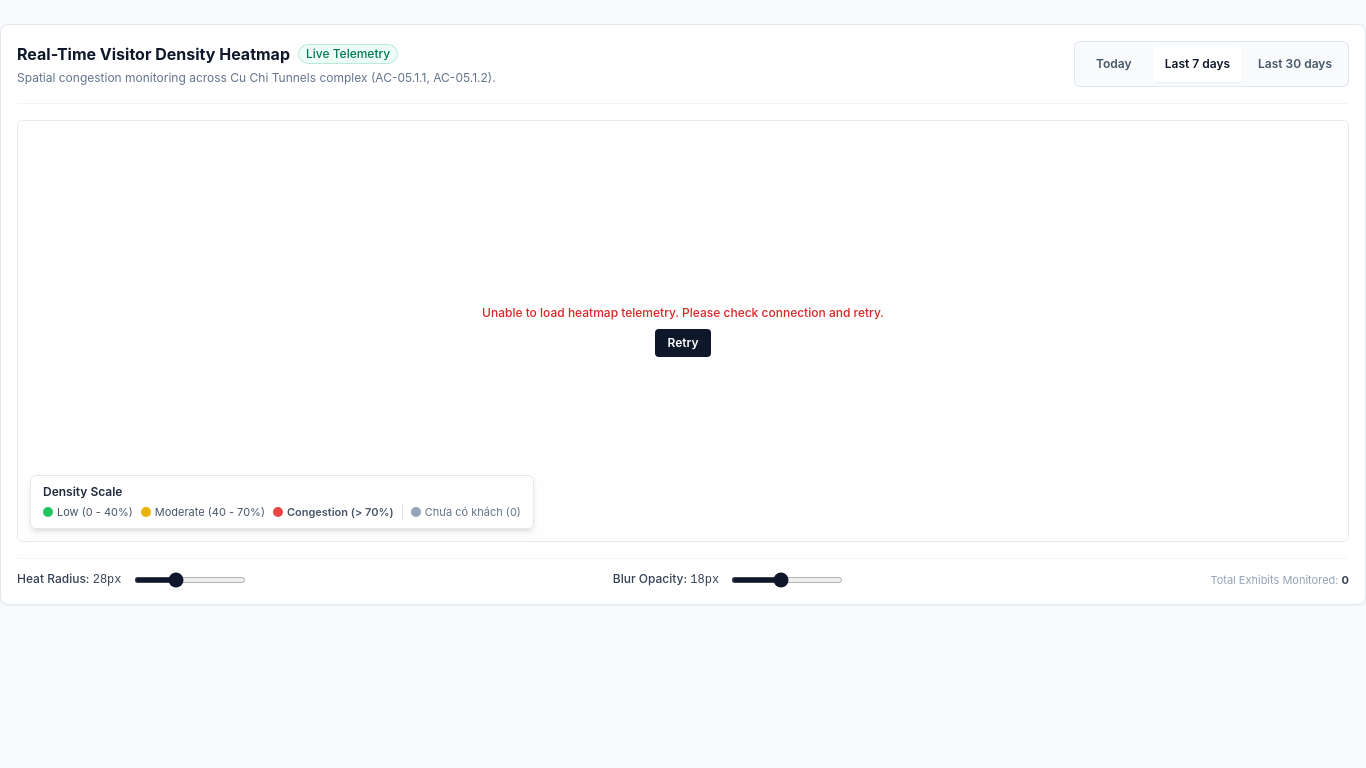
Test: AnalyticsHeatmap Component (US 05.1) › displays an error state and allows retry on fetch failure
Expected: the element with test id "heatmap-error-overlay" is shown, [18, 121, 1348, 541]
Expected: the text "Unable to load heatmap telemetry" is shown, [482, 305, 884, 320]
Click the button "Retry" at (683, 343), box [656, 329, 710, 357]
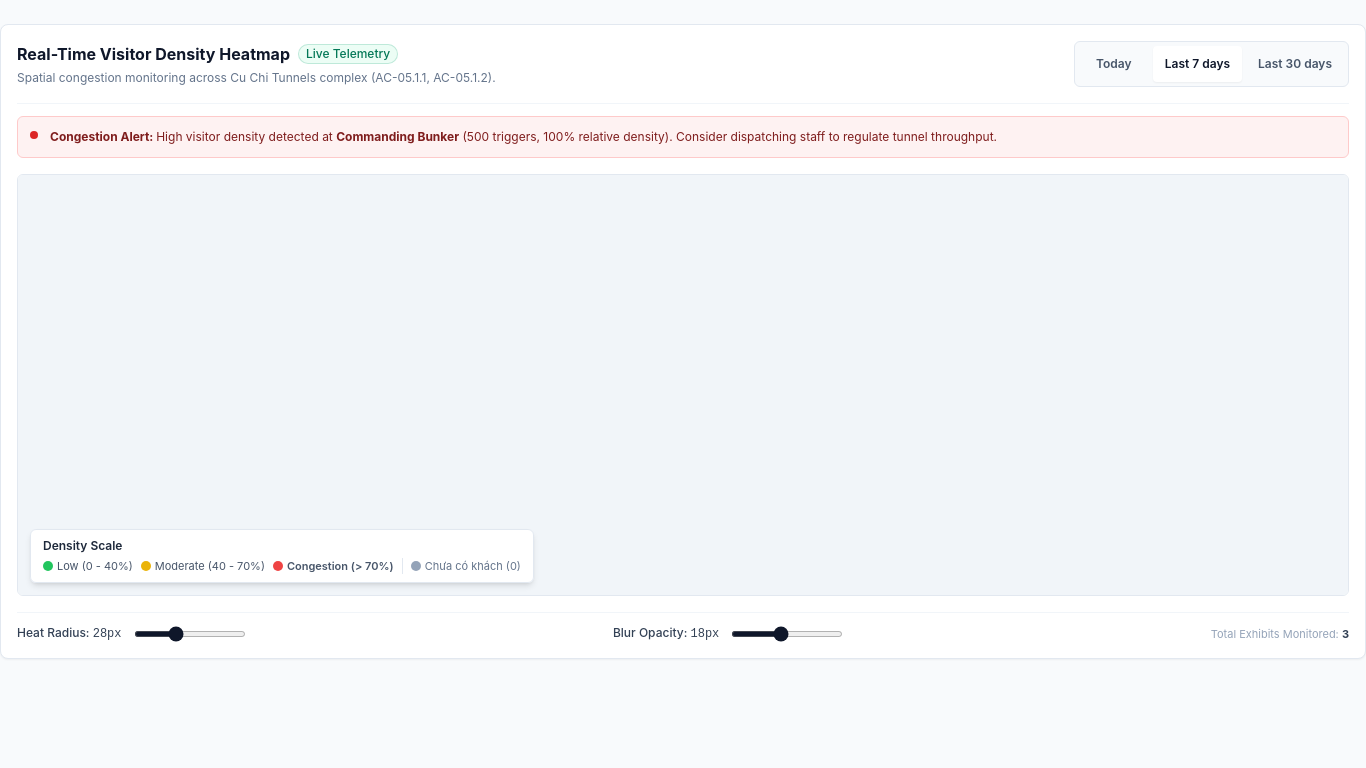
Result: the element with test id "heatmap-error-overlay" is gone
